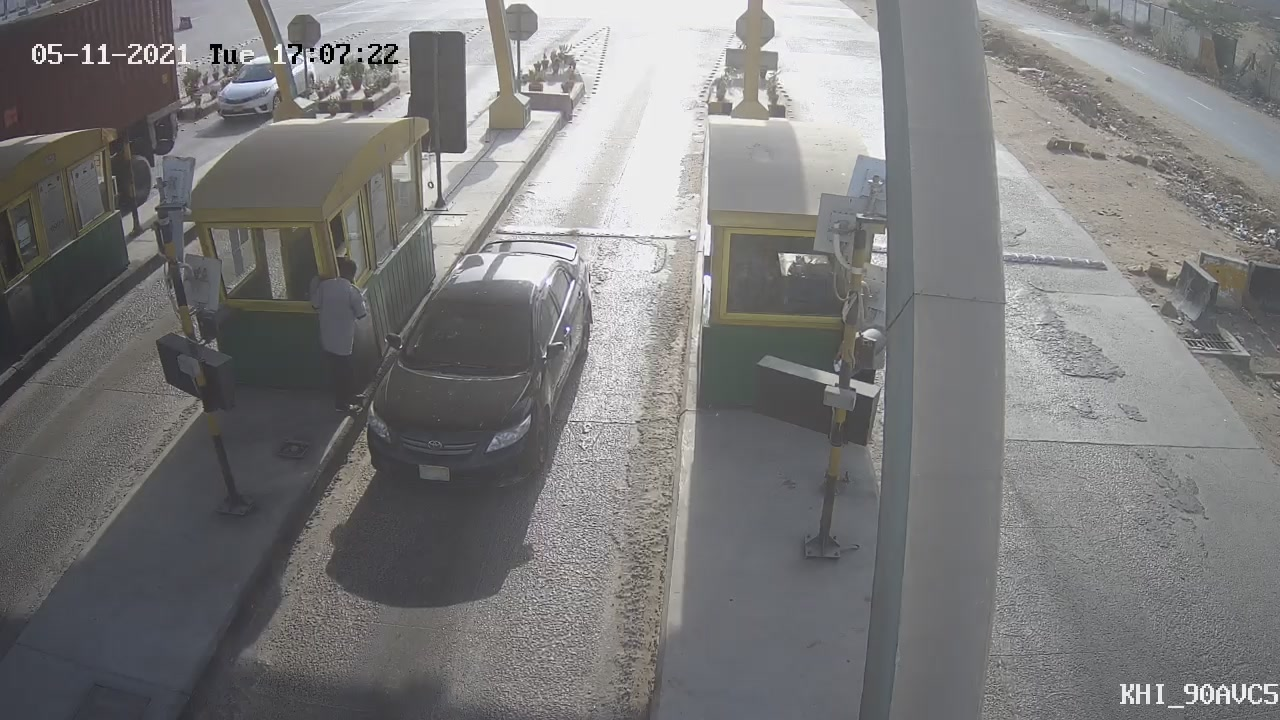F1: (346, 213, 612, 507)
